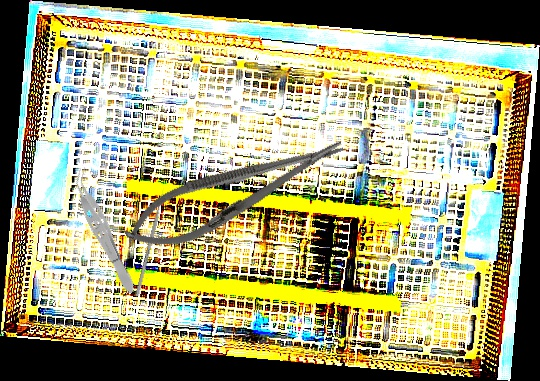Needle Holder: (116, 120, 354, 265)
Pusher: (135, 187, 166, 297)
Tissue Forceps: (65, 165, 142, 298)
